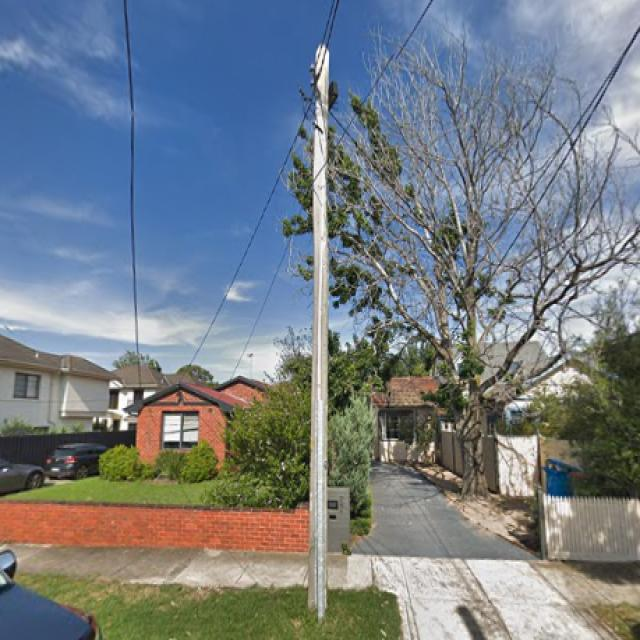timber-pole: (306, 44, 330, 622)
